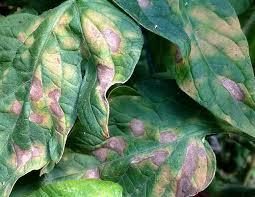leaf_spot: (9, 9, 255, 197)
